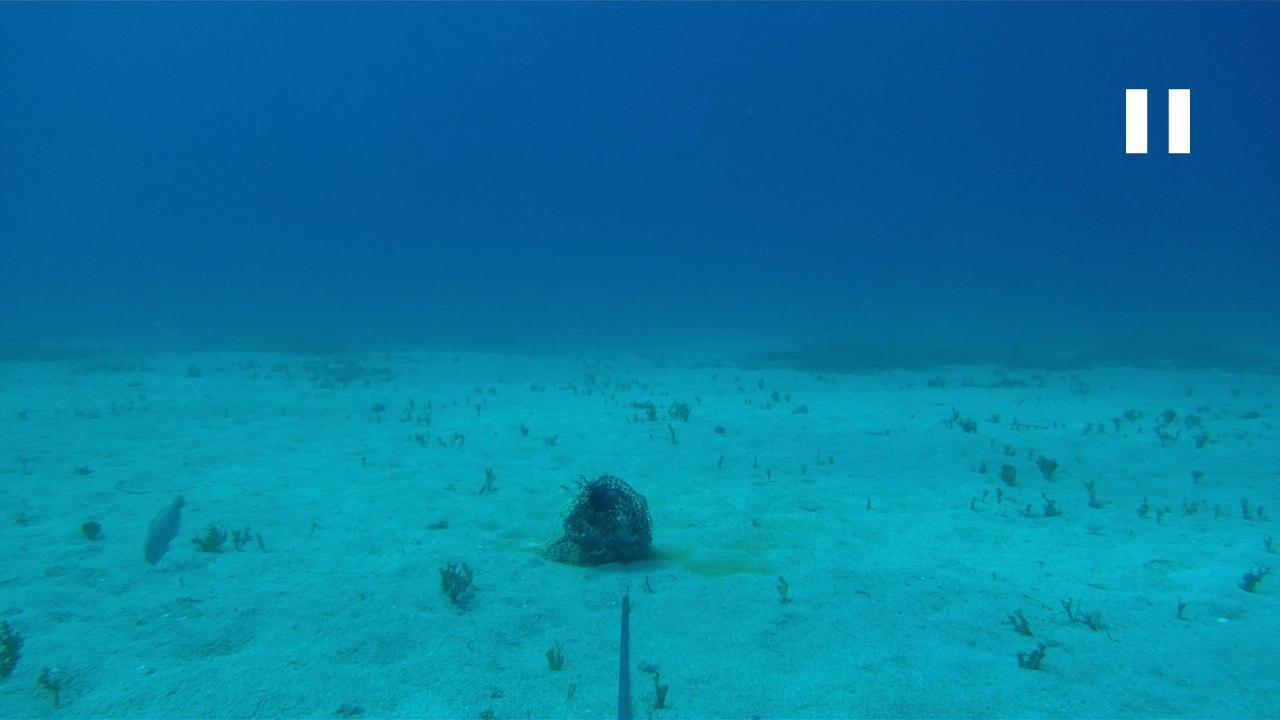bothus: (112, 467, 203, 496)
